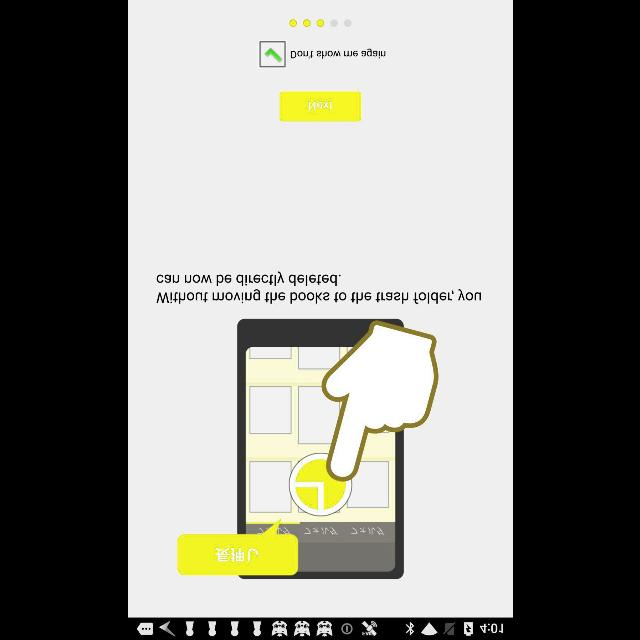checkbox: (259, 41, 285, 68)
image: (176, 318, 438, 580)
pageindicator: (288, 18, 352, 28)
text: (155, 272, 481, 304), (290, 49, 384, 60), (214, 548, 258, 562), (303, 526, 337, 536), (351, 526, 384, 536)
textbutton: (279, 91, 361, 121)
uppertaskbar: (128, 617, 512, 639)
